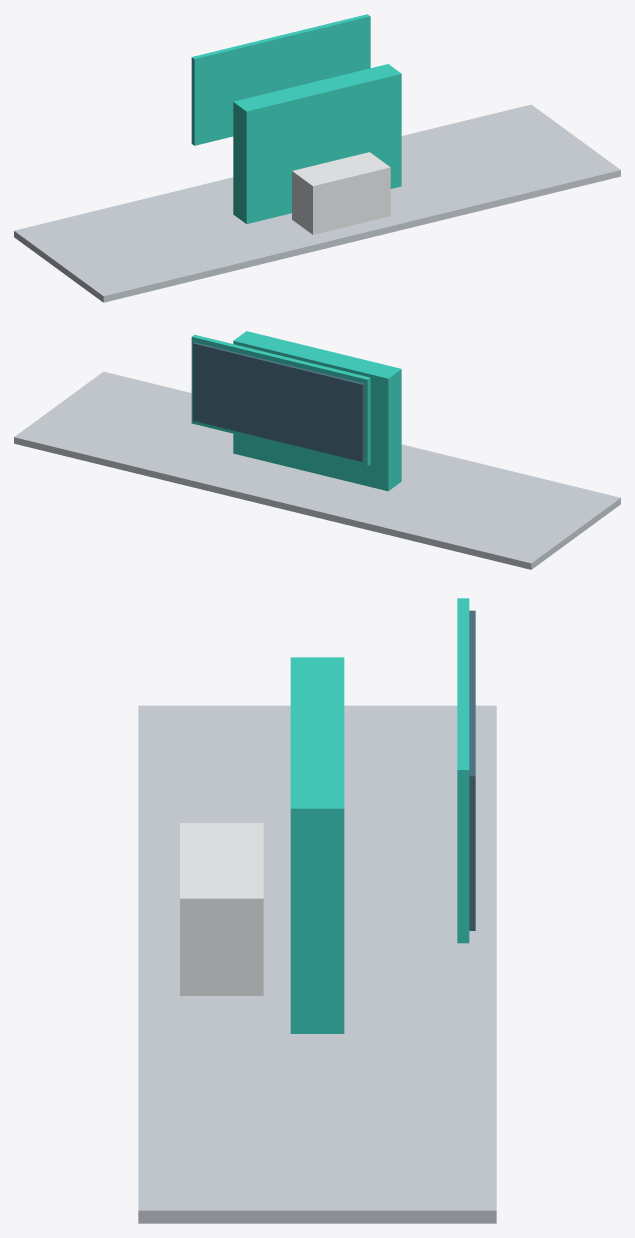
3 views of the same model, one above another, from view 1: azimuth 30°, elevation 25°; view 2: azimuth 150°, elevation 25°; view 3: azimuth 270°, elevation 25° (orthographic). The views are drawn at different scales.
Parts seen in each view (by area): view 1: Exhibition Booth Concept; view 2: Exhibition Booth Concept; view 3: Exhibition Booth Concept.
Boxes of the visible parts, bbox=[...] form: Exhibition Booth Concept: bbox=[14, 14, 620, 302]; Exhibition Booth Concept: bbox=[14, 331, 620, 569]; Exhibition Booth Concept: bbox=[138, 598, 496, 1223].
Bounding box in the file's own units: 10 × 2.65 × 3.
